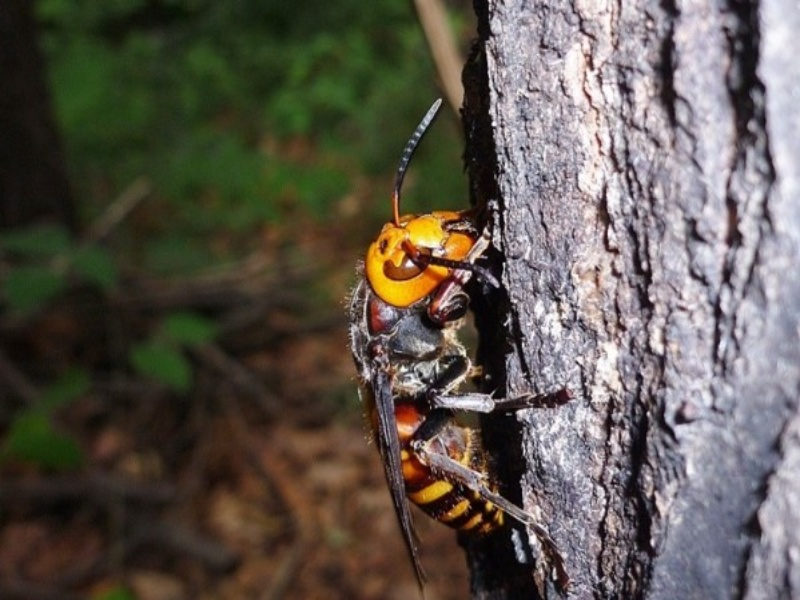asian_giant_hornet: (339, 184, 508, 546)
